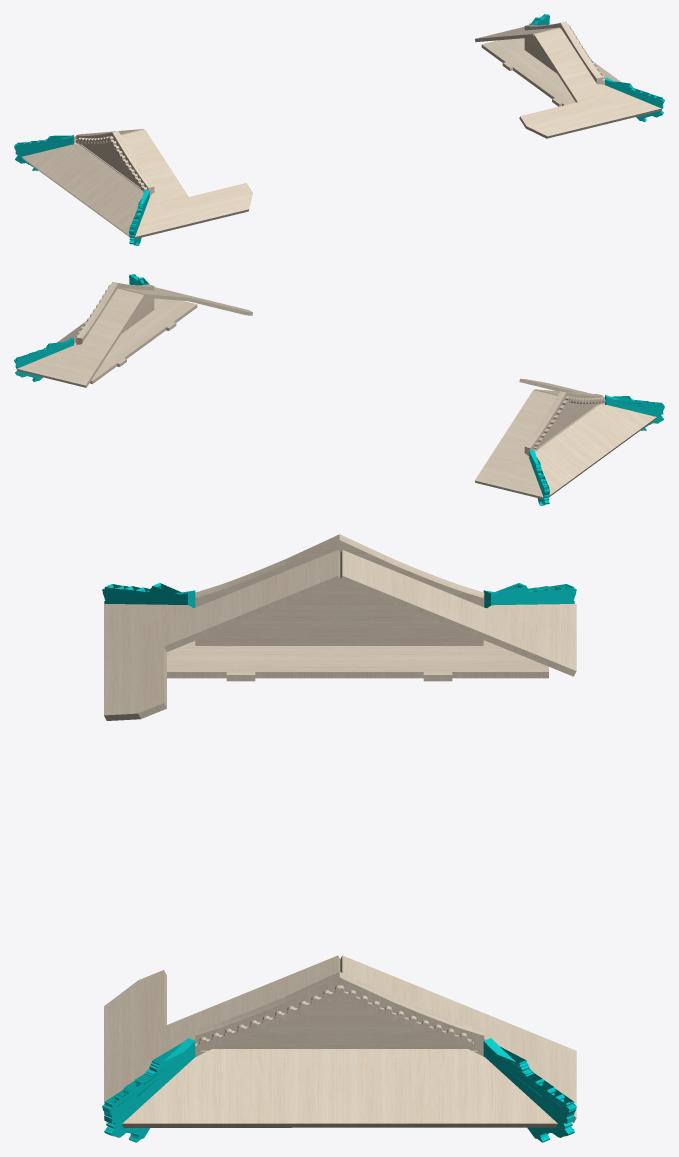
3 views of the same model, one above another, from view 1: azimuth 30°, elevation 25°; view 2: azimuth 150°, elevation 25°; view 3: azimuth 270°, elevation 25° (orthographic). The views are drawn at different scales.
Parts seen in each view (by area): view 1: Mesh40 ___1162_2 ___1196_2 ___1284_2 Model, Mesh8 ___1162_1 ___1196_1 ___1284_1 Model, Mesh10 ___1147_2 ___1232_1 ___1284_1 Model, Mesh9 ___1147_1 ___1232_1 ___1284_1 Model, Mesh63 ___1157_4 ___1229_2 ___1284_2 Model, Mesh4 ___1230_2 ___1284_1 Model, Mesh34 ___1230_3 ___1284_2 Model, Mesh58 ___1157_3 ___1229_2 ___1284_2 Model, Mesh39 ___1161_2 ___1196_2 ___1284_2 Model, Mesh48 __2_dwg_2_4 ___1149_4 ___1195_2 ___1284_2 Model, Mesh16 __2_dwg_2_2 ___1149_2 ___1195_1 ___1284_1 Model, Mesh11 __2_dwg_2_1 ___1149_1 ___1195_1 ___1284_1 Model (+4 smaller); view 2: Mesh39 ___1161_2 ___1196_2 ___1284_2 Model, Mesh7 ___1161_1 ___1196_1 ___1284_1 Model, Mesh9 ___1147_1 ___1232_1 ___1284_1 Model, Mesh10 ___1147_2 ___1232_1 ___1284_1 Model, Mesh58 ___1157_3 ___1229_2 ___1284_2 Model, Mesh40 ___1162_2 ___1196_2 ___1284_2 Model, Mesh63 ___1157_4 ___1229_2 ___1284_2 Model, Mesh2 ___1230_1 ___1284_1 Model, Mesh36 ___1230_4 ___1284_2 Model, Mesh43 __2_dwg_2_3 ___1149_3 ___1195_2 ___1284_2 Model, Mesh11 __2_dwg_2_1 ___1149_1 ___1195_1 ___1284_1 Model, Mesh16 __2_dwg_2_2 ___1149_2 ___1195_1 ___1284_1 Model (+4 smaller); view 3: Mesh42 ___1147_4 ___1232_2 ___1284_2 Model, Mesh41 ___1147_3 ___1232_2 ___1284_2 Model, Mesh8 ___1162_1 ___1196_1 ___1284_1 Model, Mesh7 ___1161_1 ___1196_1 ___1284_1 Model, Mesh40 ___1162_2 ___1196_2 ___1284_2 Model, Mesh16 __2_dwg_2_2 ___1149_2 ___1195_1 ___1284_1 Model, Mesh11 __2_dwg_2_1 ___1149_1 ___1195_1 ___1284_1 Model, Mesh31 ___1157_2 ___1229_1 ___1284_1 Model, Mesh39 ___1161_2 ___1196_2 ___1284_2 Model, Mesh26 ___1157_1 ___1229_1 ___1284_1 Model, Mesh43 __2_dwg_2_3 ___1149_3 ___1195_2 ___1284_2 Model, Mesh48 __2_dwg_2_4 ___1149_4 ___1195_2 ___1284_2 Model (+8 smaller).
Part boxes in pixels (box(x1,y1,x2,y2)): Mesh40 ___1162_2 ___1196_2 ___1284_2 Model: box(519, 28, 661, 138); Mesh8 ___1162_1 ___1196_1 ___1284_1 Model: box(121, 130, 252, 239); Mesh10 ___1147_2 ___1232_1 ___1284_1 Model: box(22, 144, 111, 198); Mesh9 ___1147_1 ___1232_1 ___1284_1 Model: box(76, 168, 143, 236); Mesh63 ___1157_4 ___1229_2 ___1284_2 Model: box(481, 38, 558, 85); Mesh4 ___1230_2 ___1284_1 Model: box(14, 135, 73, 170); Mesh34 ___1230_3 ___1284_2 Model: box(605, 77, 664, 121); Mesh58 ___1157_3 ___1229_2 ___1284_2 Model: box(534, 76, 575, 106); Mesh39 ___1161_2 ___1196_2 ___1284_2 Model: box(475, 26, 559, 42); Mesh48 __2_dwg_2_4 ___1149_4 ___1195_2 ___1284_2 Model: box(524, 23, 560, 73); Mesh16 __2_dwg_2_2 ___1149_2 ___1195_1 ___1284_1 Model: box(79, 131, 116, 170); Mesh11 __2_dwg_2_1 ___1149_1 ___1195_1 ___1284_1 Model: box(115, 131, 154, 196); Mesh39 ___1161_2 ___1196_2 ___1284_2 Model: box(17, 288, 144, 387); Mesh7 ___1161_1 ___1196_1 ___1284_1 Model: box(474, 390, 557, 499); Mesh9 ___1147_1 ___1232_1 ___1284_1 Model: box(567, 405, 656, 458); Mesh10 ___1147_2 ___1232_1 ___1284_1 Model: box(535, 428, 602, 496); Mesh58 ___1157_3 ___1229_2 ___1284_2 Model: box(120, 298, 197, 345); Mesh40 ___1162_2 ___1196_2 ___1284_2 Model: box(118, 287, 252, 315); Mesh63 ___1157_4 ___1229_2 ___1284_2 Model: box(89, 336, 144, 383); Mesh2 ___1230_1 ___1284_1 Model: box(605, 395, 664, 430); Mesh36 ___1230_4 ___1284_2 Model: box(14, 337, 73, 381); Mesh43 __2_dwg_2_3 ___1149_3 ___1195_2 ___1284_2 Model: box(118, 283, 154, 333); Mesh11 __2_dwg_2_1 ___1149_1 ___1195_1 ___1284_1 Model: box(562, 391, 599, 430); Mesh16 __2_dwg_2_2 ___1149_2 ___1195_1 ___1284_1 Model: box(524, 391, 563, 458); Mesh42 ___1147_4 ___1232_2 ___1284_2 Model: box(340, 1049, 557, 1127); Mesh41 ___1147_3 ___1232_2 ___1284_2 Model: box(122, 1049, 339, 1127); Mesh8 ___1162_1 ___1196_1 ___1284_1 Model: box(104, 550, 340, 720); Mesh7 ___1161_1 ___1196_1 ___1284_1 Model: box(340, 550, 576, 676); Mesh40 ___1162_2 ___1196_2 ___1284_2 Model: box(104, 955, 340, 1123); Mesh16 __2_dwg_2_2 ___1149_2 ___1195_1 ___1284_1 Model: box(339, 537, 483, 645); Mesh11 __2_dwg_2_1 ___1149_1 ___1195_1 ___1284_1 Model: box(195, 537, 339, 645); Mesh31 ___1157_2 ___1229_1 ___1284_1 Model: box(339, 640, 548, 681); Mesh39 ___1161_2 ___1196_2 ___1284_2 Model: box(340, 955, 576, 1123); Mesh26 ___1157_1 ___1229_1 ___1284_1 Model: box(167, 641, 339, 681); Mesh43 __2_dwg_2_3 ___1149_3 ___1195_2 ___1284_2 Model: box(195, 971, 339, 1056); Mesh48 __2_dwg_2_4 ___1149_4 ___1195_2 ___1284_2 Model: box(339, 972, 483, 1056).
Size of the model in its own units: 358 by 43.73 by 137.
Materials: 2 (1 with a texture image).
